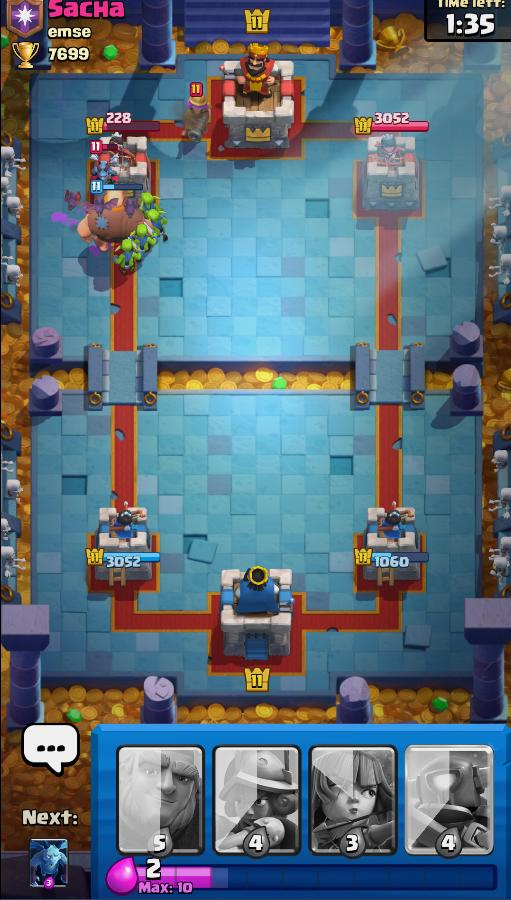bat: (81, 198, 119, 213), (63, 188, 82, 212), (123, 197, 140, 218)
gargouille: (88, 153, 122, 182)
geant: (82, 191, 145, 252)
gobelin: (113, 239, 144, 274), (145, 208, 173, 241), (128, 223, 154, 254), (136, 191, 164, 212)
mousquetaire: (181, 95, 213, 141)
